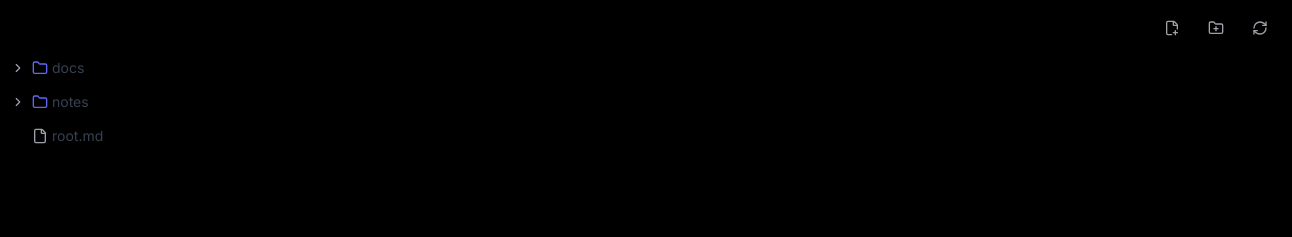
Test: FileTree › folder expand/collapse › expands folder on click
Expected: the text "readme.md" is not shown
Click the text "docs": (68, 68) [52,58,84,78]
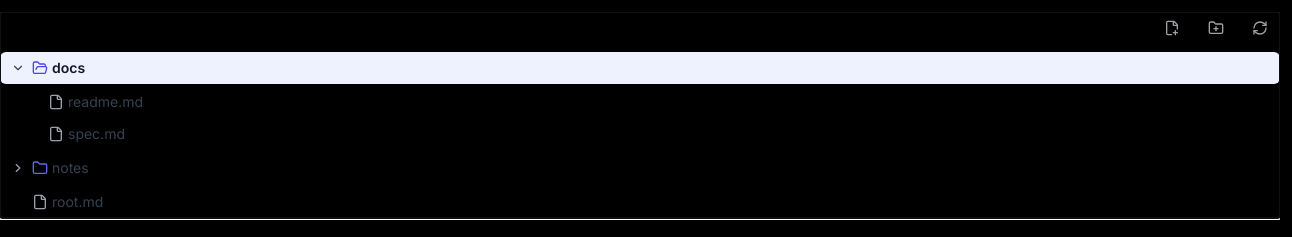
Expected: the text "readme.md" is shown, [68,92,143,112]
